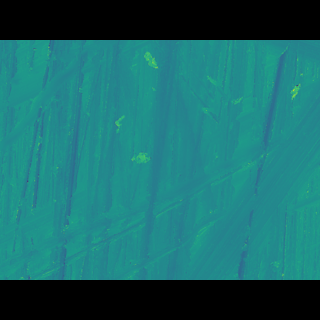Loch: (180, 97, 320, 249), (0, 79, 88, 153)
